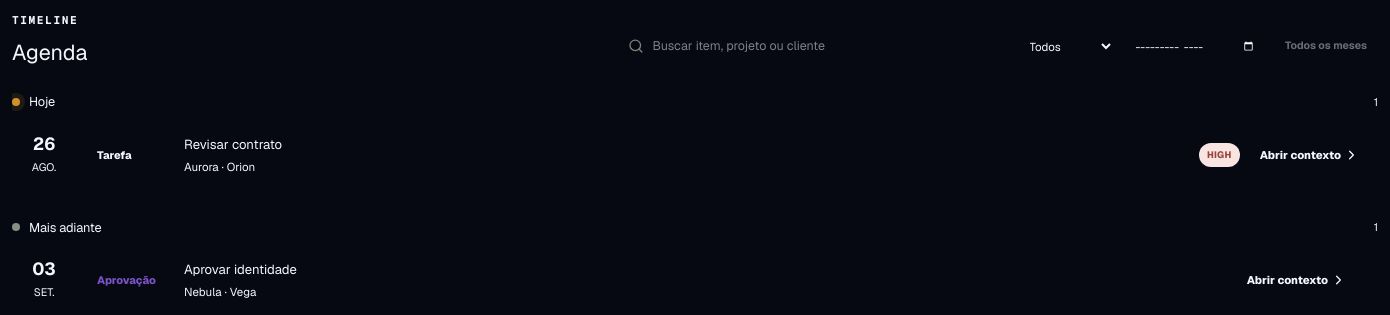
Test: Marco 23 unified agenda › filters existing records without changing their navigation context
The image size is (1390, 315).
Expected: the heading "Revisar contrato" is shown, [184,136,282,153]
Expected: the heading "Aprovar identidade" is shown, [184,261,297,278]
Select "Aprovação" in the dropdown named "Tipo" at (1064, 46), box [1014,24,1114,68]
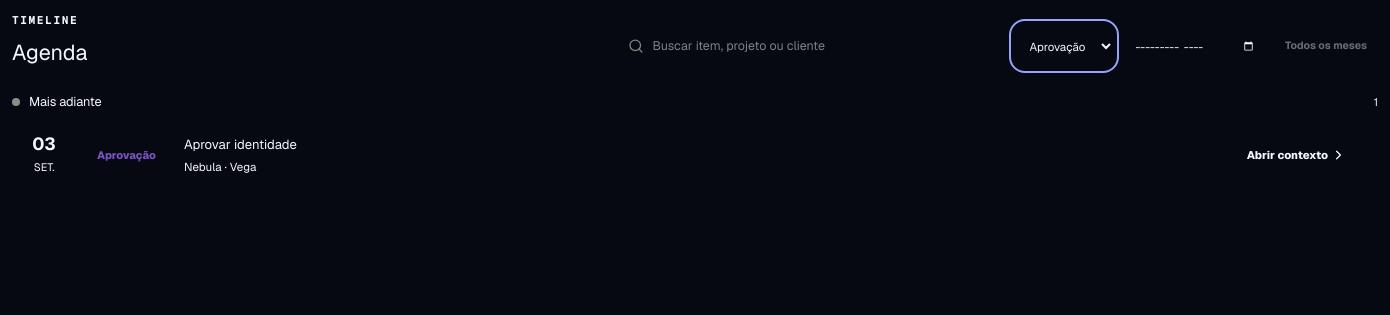
Expected: the heading "Revisar contrato" is gone
